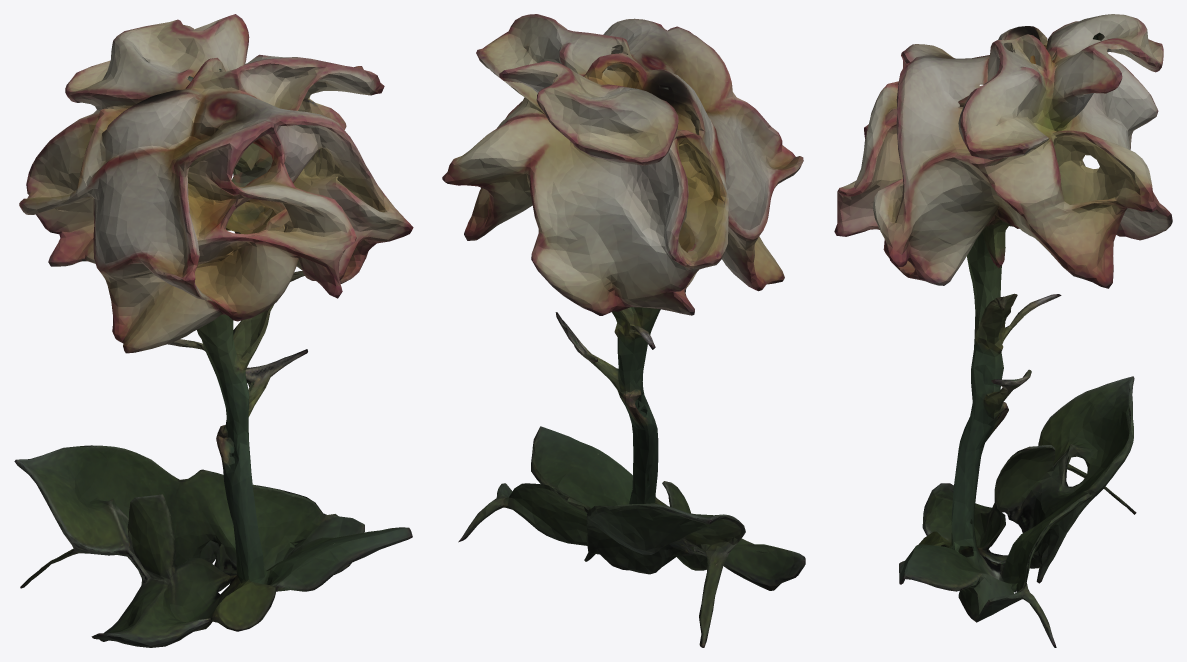
3 views of the same model, side by side, from view 1: azimuth 30°, elevation 25°; view 2: azimuth 150°, elevation 25°; view 3: azimuth 270°, elevation 25° (orthographic). The views are drawn at different scales.
Parts seen in each view (by area): view 1: world; view 2: world; view 3: world.
Boxes of the visible parts, box(x1,y1,x2,y2) form: world: box(14, 14, 413, 647); world: box(442, 14, 805, 647); world: box(834, 14, 1172, 647).
Bounding box in the file's own units: 0.5497 × 0.9402 × 0.5211.
1 material, 1 textured.
